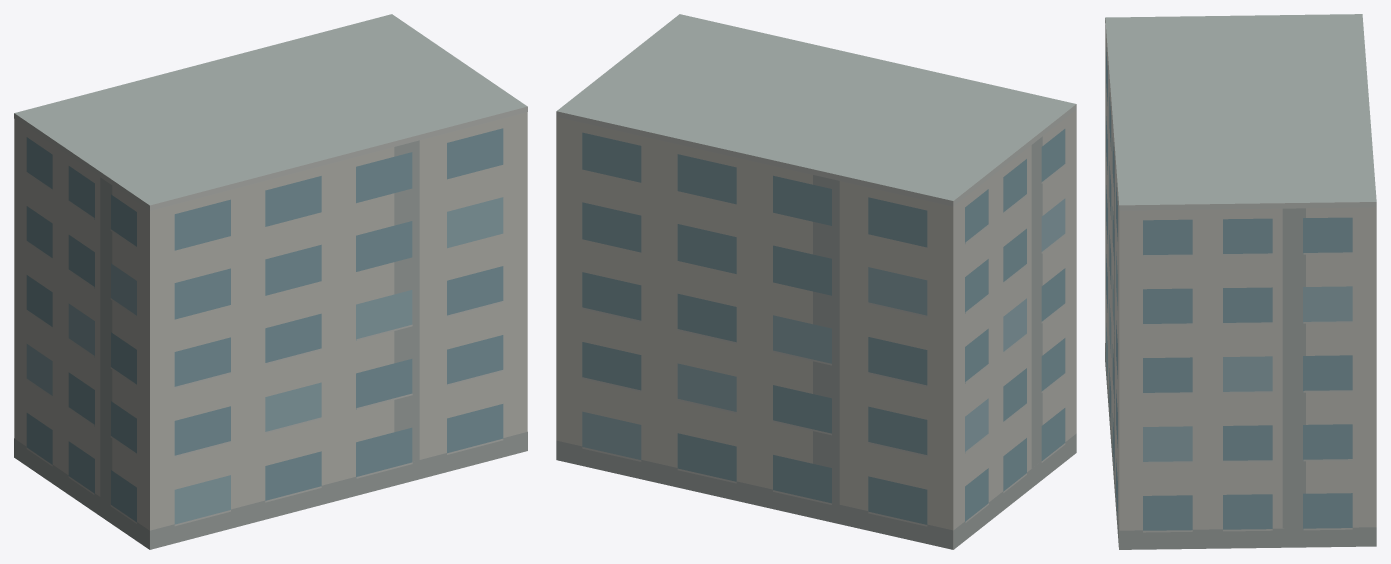
File: residential-50d26fbd-94bb-4280-a79c-d173792a9428.glb
3 views of the same model, side by side, from view 1: azimuth 30°, elevation 25°; view 2: azimuth 150°, elevation 25°; view 3: azimuth 270°, elevation 25° (orthographic).
Parts seen in each view (by area): view 1: residential-50d26fbd-94bb-4280-a79c-d173792a9428.tmp; view 2: residential-50d26fbd-94bb-4280-a79c-d173792a9428.tmp; view 3: residential-50d26fbd-94bb-4280-a79c-d173792a9428.tmp.
Part boxes in pixels (box(x1,y1,x2,y2)): residential-50d26fbd-94bb-4280-a79c-d173792a9428.tmp: box(14, 14, 527, 549); residential-50d26fbd-94bb-4280-a79c-d173792a9428.tmp: box(556, 14, 1076, 549); residential-50d26fbd-94bb-4280-a79c-d173792a9428.tmp: box(1105, 14, 1376, 549).
Bounding box in the file's own units: 18.17 × 15.25 × 10.9.
